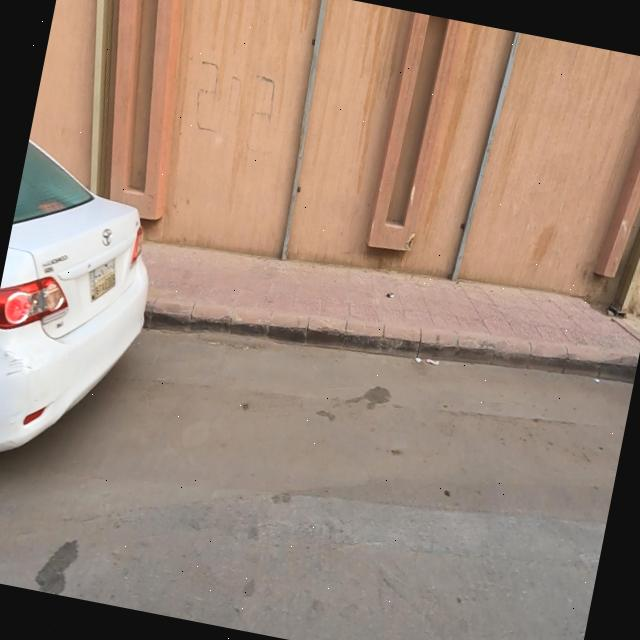Graffiti: (186, 59, 284, 158)
